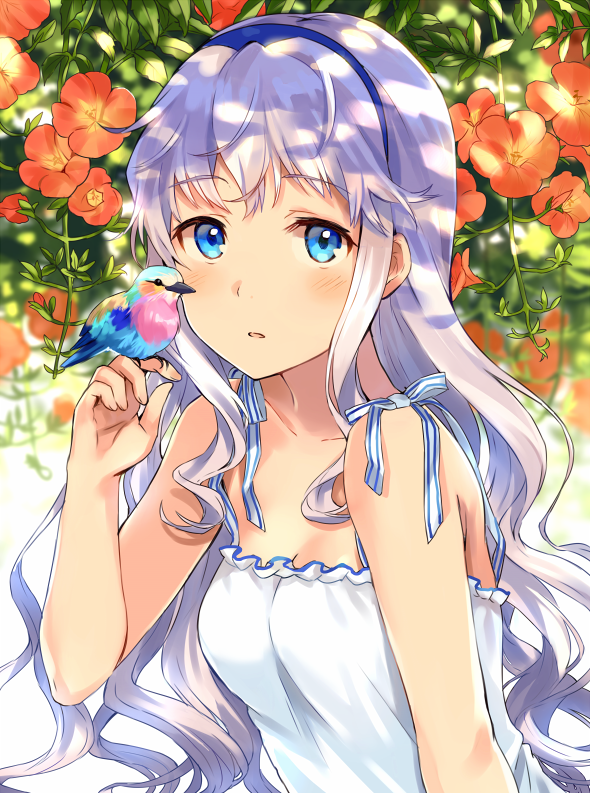纸片人正脸: (125, 10, 444, 388)
